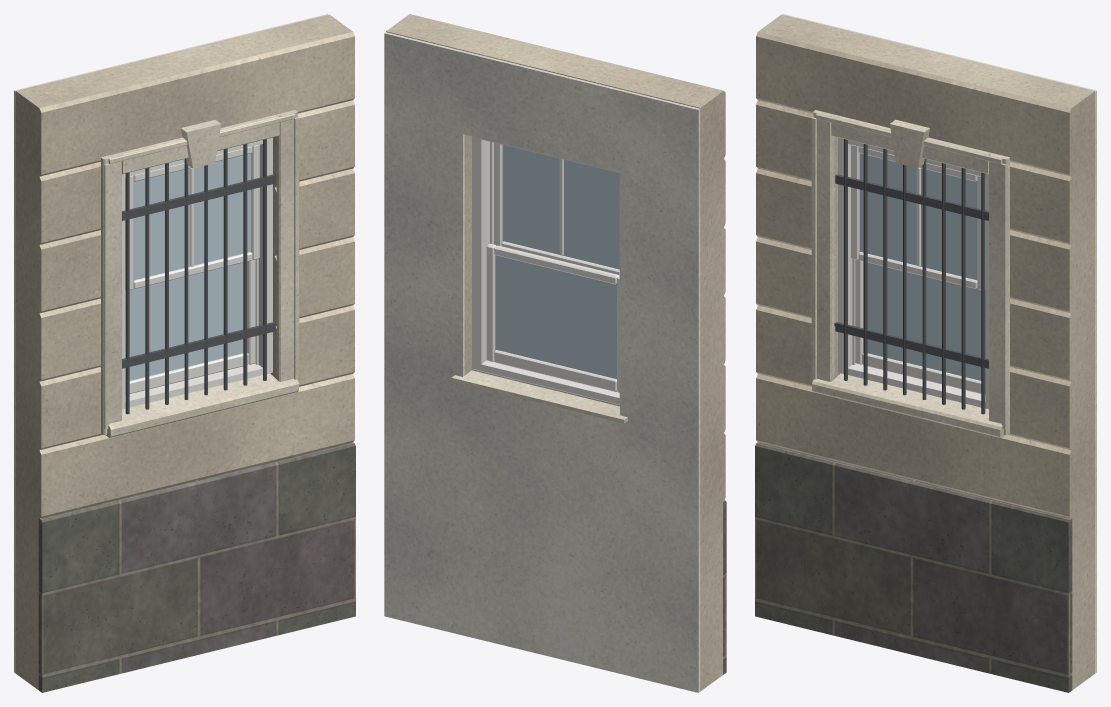
File: pv_g_window.glb
3 renders of one model, left to right at view 1: azimuth 30°, elevation 25°; view 2: azimuth 150°, elevation 25°; view 3: azimuth 330°, elevation 25°, orthographic.
Visible parts, largest first — view 1: pv_g_window_ashlar, pv_g_window_plinth, pv_g_window_trim, pv_g_window_glass, pv_g_window_iron, pv_g_window_sash, pv_g_window_frame, pv_g_window_plaster; view 2: pv_g_window_plaster, pv_g_window_ashlar, pv_g_window_glass, pv_g_window_sash, pv_g_window_frame, pv_g_window_trim, pv_g_window_plinth; view 3: pv_g_window_ashlar, pv_g_window_plinth, pv_g_window_trim, pv_g_window_glass, pv_g_window_iron, pv_g_window_sash, pv_g_window_frame, pv_g_window_plaster.
Part boxes in pixels (x1=…): pv_g_window_ashlar: x1=16, y1=14, x2=354, y2=689; pv_g_window_plinth: x1=38, y1=442, x2=355, y2=692; pv_g_window_trim: x1=101, y1=110, x2=299, y2=437; pv_g_window_glass: x1=129, y1=153, x2=251, y2=380; pv_g_window_iron: x1=122, y1=139, x2=276, y2=414; pv_g_window_sash: x1=125, y1=144, x2=259, y2=394; pv_g_window_frame: x1=122, y1=137, x2=272, y2=409; pv_g_window_plaster: x1=14, y1=14, x2=328, y2=673; pv_g_window_plaster: x1=384, y1=32, x2=700, y2=692; pv_g_window_ashlar: x1=386, y1=14, x2=725, y2=691; pv_g_window_glass: x1=495, y1=145, x2=619, y2=378; pv_g_window_sash: x1=486, y1=142, x2=619, y2=392; pv_g_window_frame: x1=472, y1=136, x2=619, y2=404; pv_g_window_trim: x1=451, y1=369, x2=627, y2=423; pv_g_window_plinth: x1=723, y1=500, x2=726, y2=674; pv_g_window_ashlar: x1=756, y1=14, x2=1094, y2=689; pv_g_window_plinth: x1=755, y1=442, x2=1072, y2=692; pv_g_window_trim: x1=811, y1=110, x2=1009, y2=437; pv_g_window_glass: x1=859, y1=153, x2=981, y2=380; pv_g_window_iron: x1=834, y1=139, x2=988, y2=414; pv_g_window_sash: x1=851, y1=144, x2=985, y2=394; pv_g_window_frame: x1=838, y1=137, x2=988, y2=409; pv_g_window_plaster: x1=782, y1=14, x2=1096, y2=673.
Size of the model in its own units: 2 by 3.55 by 0.415.
8 materials, 4 textured.
